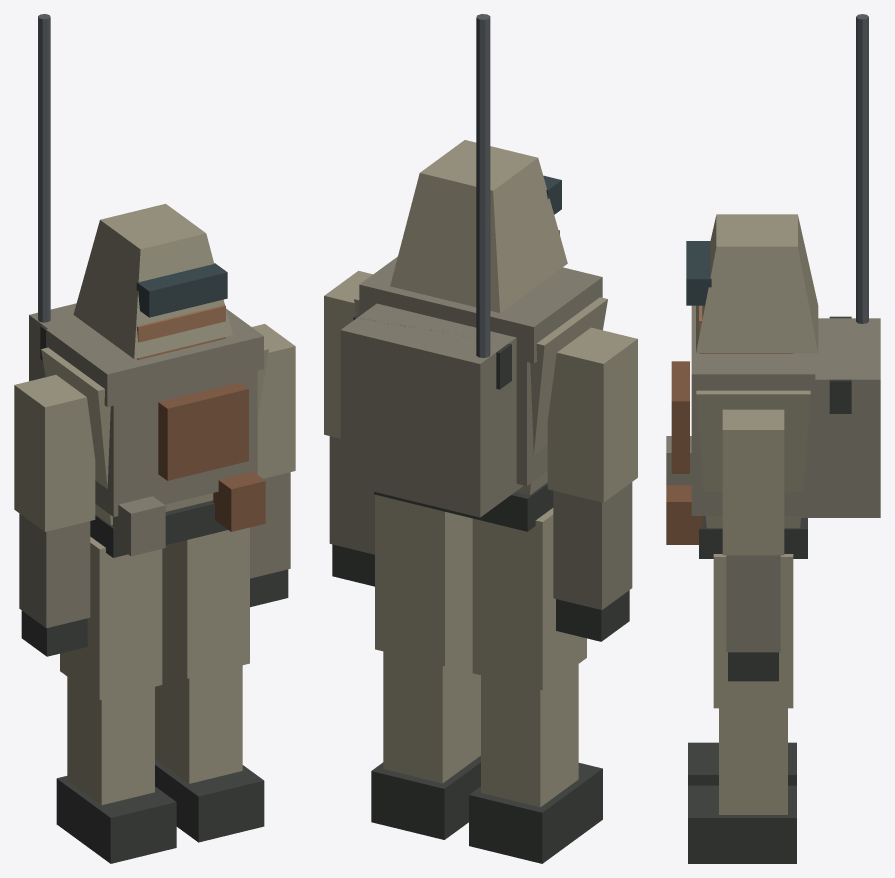
File: soldier_syndic.glb
3 views of the same model, side by side, from view 1: azimuth 30°, elevation 25°; view 2: azimuth 150°, elevation 25°; view 3: azimuth 270°, elevation 25° (orthographic). The views are drawn at different scales.
Visible parts, largest first — view 1: hood, thighL, thighR, upperarmR, wrap, shinR, shinL, carrier, plate_scrap, forearmR, bootR, bootL (+12 smaller); view 2: pack, hood, thighL, thighR, upperarmR, shinR, shinL, forearmR, wrap, bootR, bootL, antenna (+8 smaller); view 3: hood, pack, upperarmL, shinL, bootL, chest, thighL, forearmL, wrap, antenna, carrier, plate_scrap (+7 smaller).
Part boxes in pixels (bbox=[...]): hood: bbox=[73, 203, 232, 359]; thighL: bbox=[162, 527, 249, 678]; thighR: bbox=[60, 536, 162, 699]; upperarmR: bbox=[14, 375, 95, 531]; wrap: bbox=[46, 308, 263, 406]; shinR: bbox=[67, 677, 154, 805]; shinL: bbox=[155, 660, 242, 783]; carrier: bbox=[95, 370, 257, 516]; plate_scrap: bbox=[158, 382, 248, 480]; forearmR: bbox=[19, 513, 90, 628]; bootR: bbox=[56, 776, 176, 863]; bootL: bbox=[155, 759, 264, 842]; pack: bbox=[340, 303, 523, 517]; hood: bbox=[390, 140, 567, 312]; thighL: bbox=[375, 494, 472, 666]; thighR: bbox=[472, 508, 586, 690]; upperarmR: bbox=[547, 327, 637, 502]; shinR: bbox=[481, 664, 578, 807]; shinL: bbox=[383, 646, 480, 783]; forearmR: bbox=[553, 482, 632, 609]; wrap: bbox=[359, 256, 602, 363]; bootR: bbox=[469, 763, 602, 863]; bootL: bbox=[371, 756, 480, 839]; antenna: bbox=[476, 14, 490, 357]; hood: bbox=[696, 214, 818, 353]; pack: bbox=[801, 318, 880, 517]; upperarmL: bbox=[722, 409, 784, 555]; shinL: bbox=[719, 708, 787, 814]; bootL: bbox=[688, 785, 796, 863]; chest: bbox=[696, 390, 810, 528]; thighL: bbox=[713, 554, 793, 708]; forearmL: bbox=[726, 555, 780, 652]; wrap: bbox=[691, 305, 815, 406]; antenna: bbox=[856, 14, 868, 323]; carrier: bbox=[691, 407, 815, 515]; plate_scrap: bbox=[671, 361, 689, 473].
Size of the model in its own units: 0.8 by 2.37 by 0.59.
